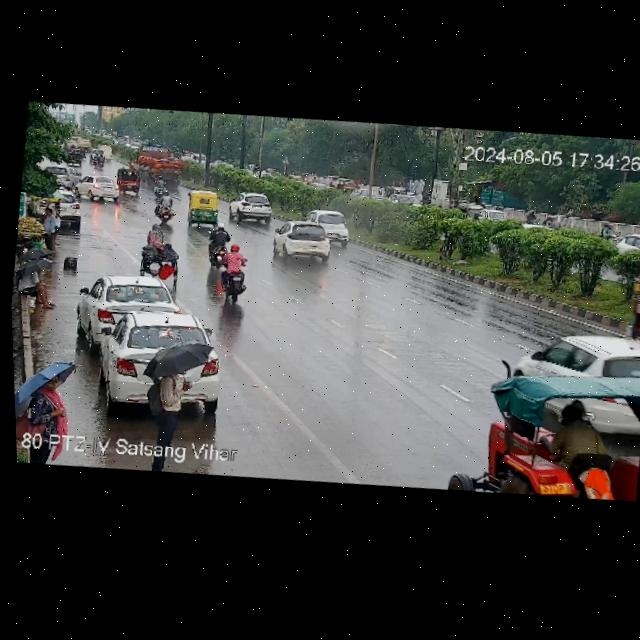car: (86, 301, 229, 420), (505, 318, 640, 417), (73, 264, 185, 356), (269, 217, 337, 266), (26, 181, 86, 231), (298, 206, 352, 251), (227, 188, 275, 228), (74, 171, 122, 204), (186, 187, 221, 229), (39, 161, 82, 194), (111, 165, 146, 196), (65, 145, 84, 167), (335, 175, 356, 194)
motorcycle: (216, 241, 254, 305), (208, 220, 235, 270), (157, 188, 178, 224), (598, 218, 620, 242), (150, 175, 168, 200), (91, 152, 107, 169), (524, 208, 541, 224), (545, 212, 558, 229)
person: (137, 338, 210, 449), (13, 350, 78, 436), (10, 247, 57, 309), (39, 207, 58, 249)
truck: (134, 141, 186, 192)
